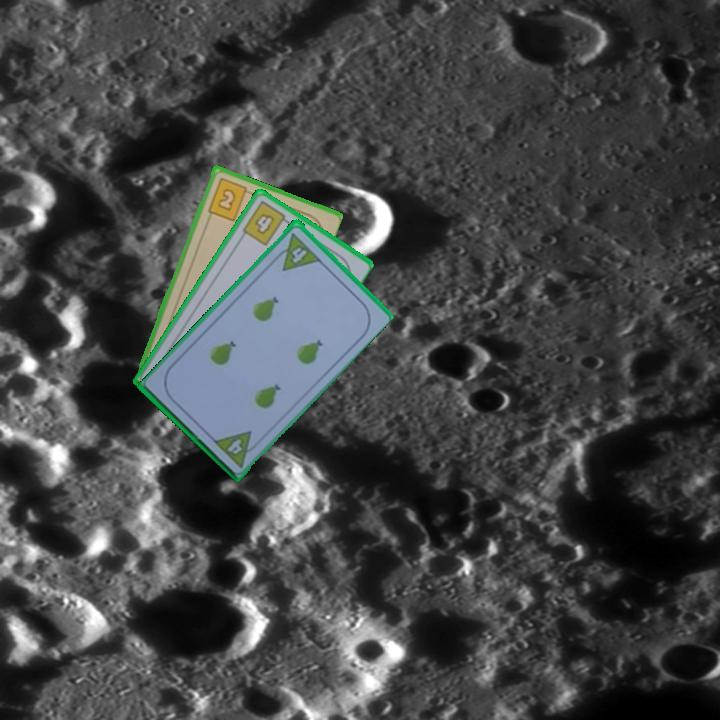2b: (204, 174, 255, 223)
4b: (238, 197, 293, 249)
4p: (270, 229, 323, 274), (210, 426, 264, 470)
